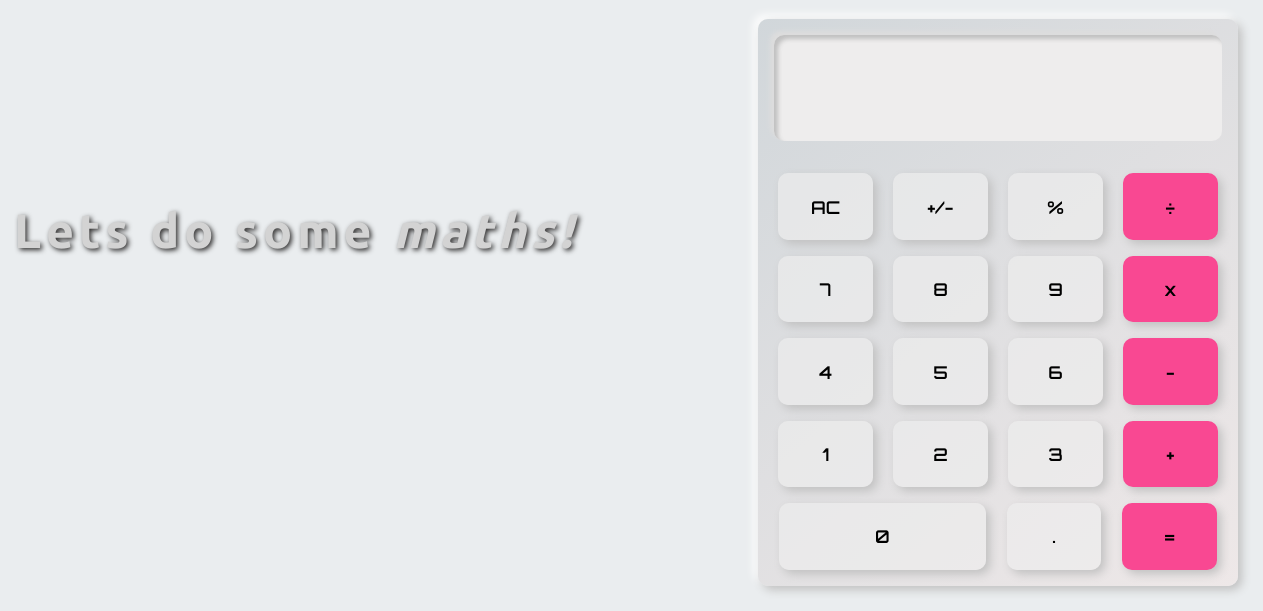
it: Calculator page › should update display when 1 + 1 is clicked
Click the button with test id "1".
click(826, 454)  # box [778,421,873,487]
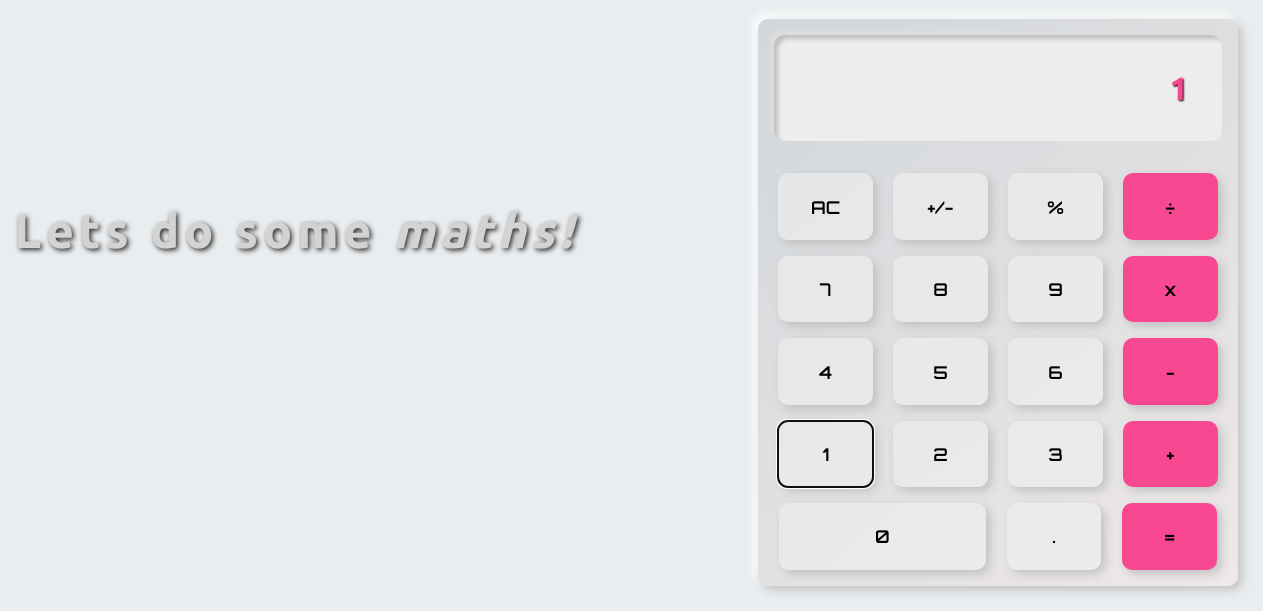
Click the button with test id "+".
click(1170, 454)  # box [1123,421,1218,487]
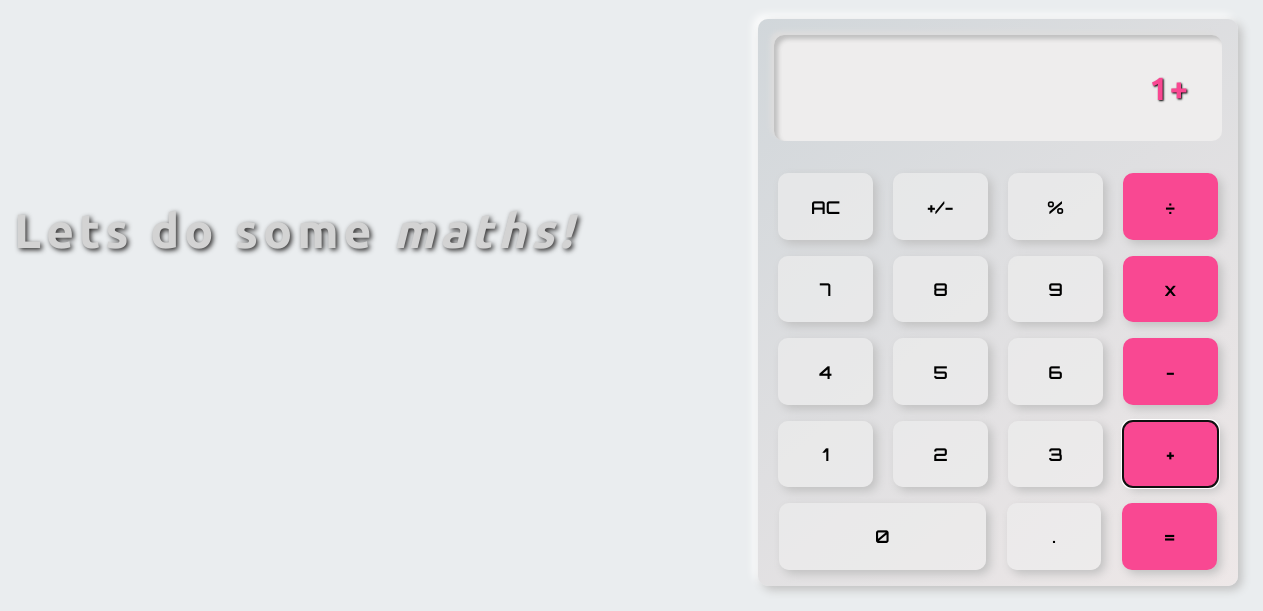
Click the button with test id "1".
click(826, 454)  # box [778,421,873,487]
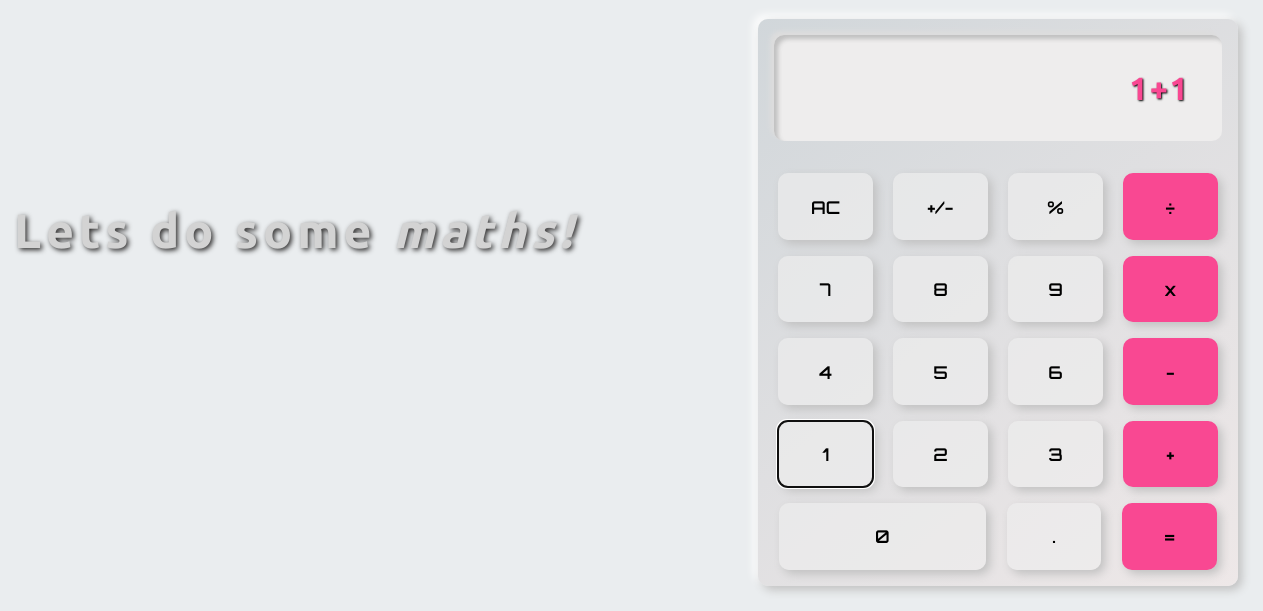
Result: the text with test id "display" reads "1+1" at [774,35,1222,141]
